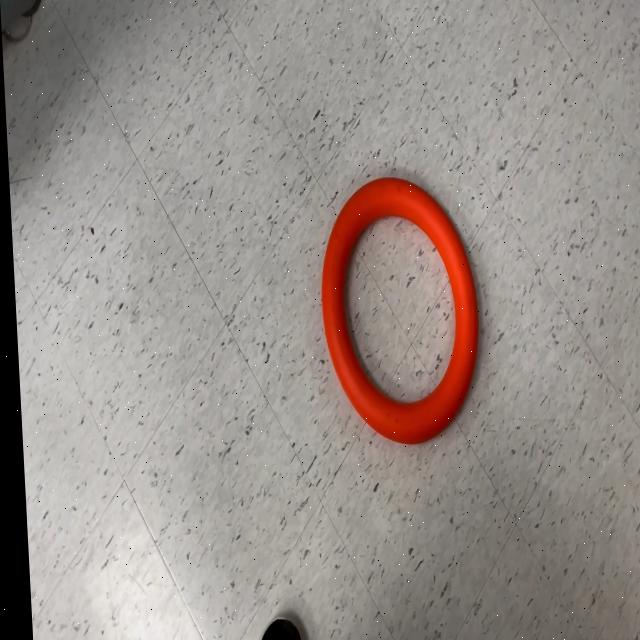note: (313, 176, 482, 444)
